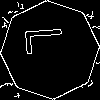L: (25, 25, 73, 56)
